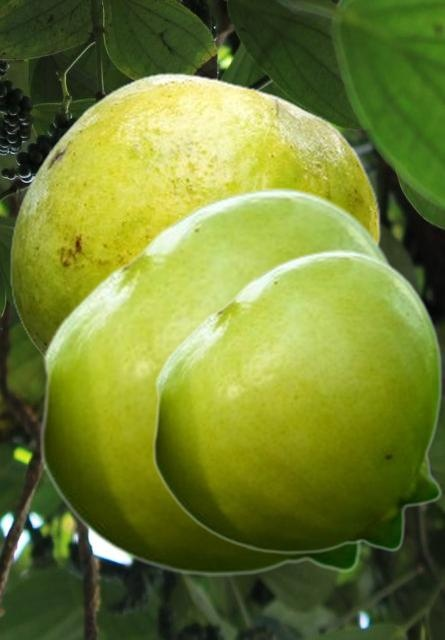guava: (38, 186, 397, 575), (9, 72, 380, 357), (151, 248, 442, 553)
